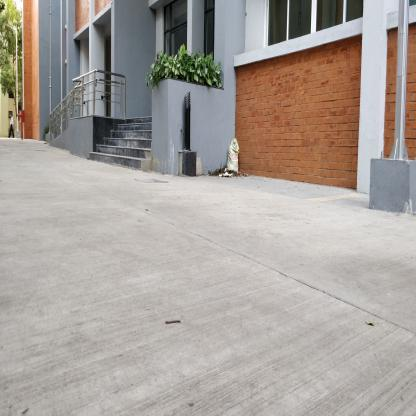stairs: (121, 117, 152, 175)
